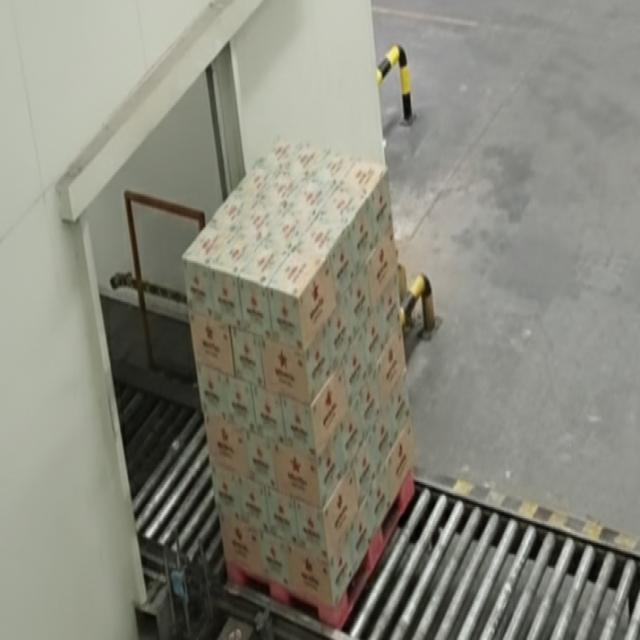pallet: (177, 141, 426, 640)
